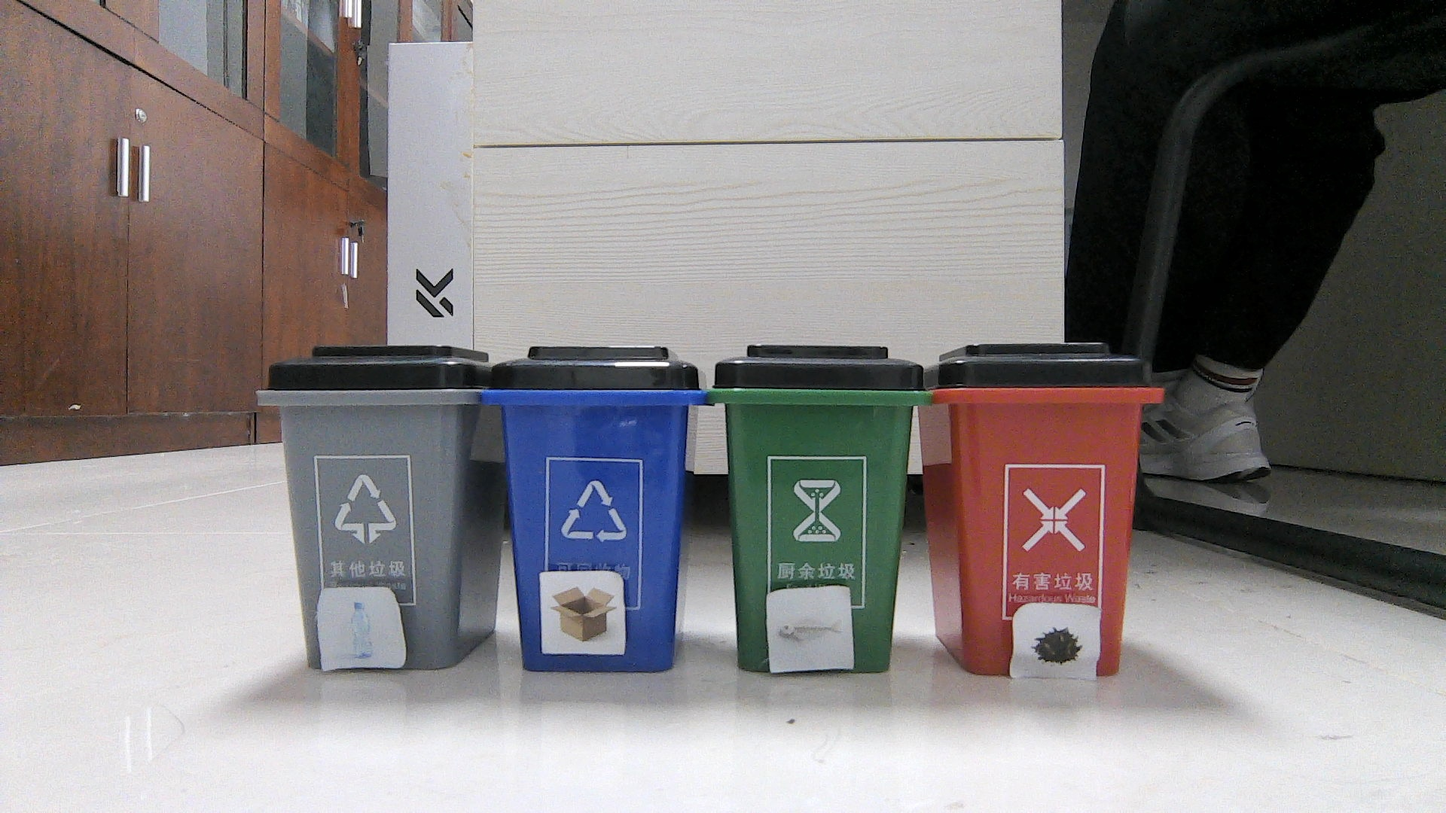food_trash: (771, 590, 848, 666), (1020, 610, 1093, 678)
recyclable_trash: (544, 572, 621, 651), (324, 590, 394, 666)
